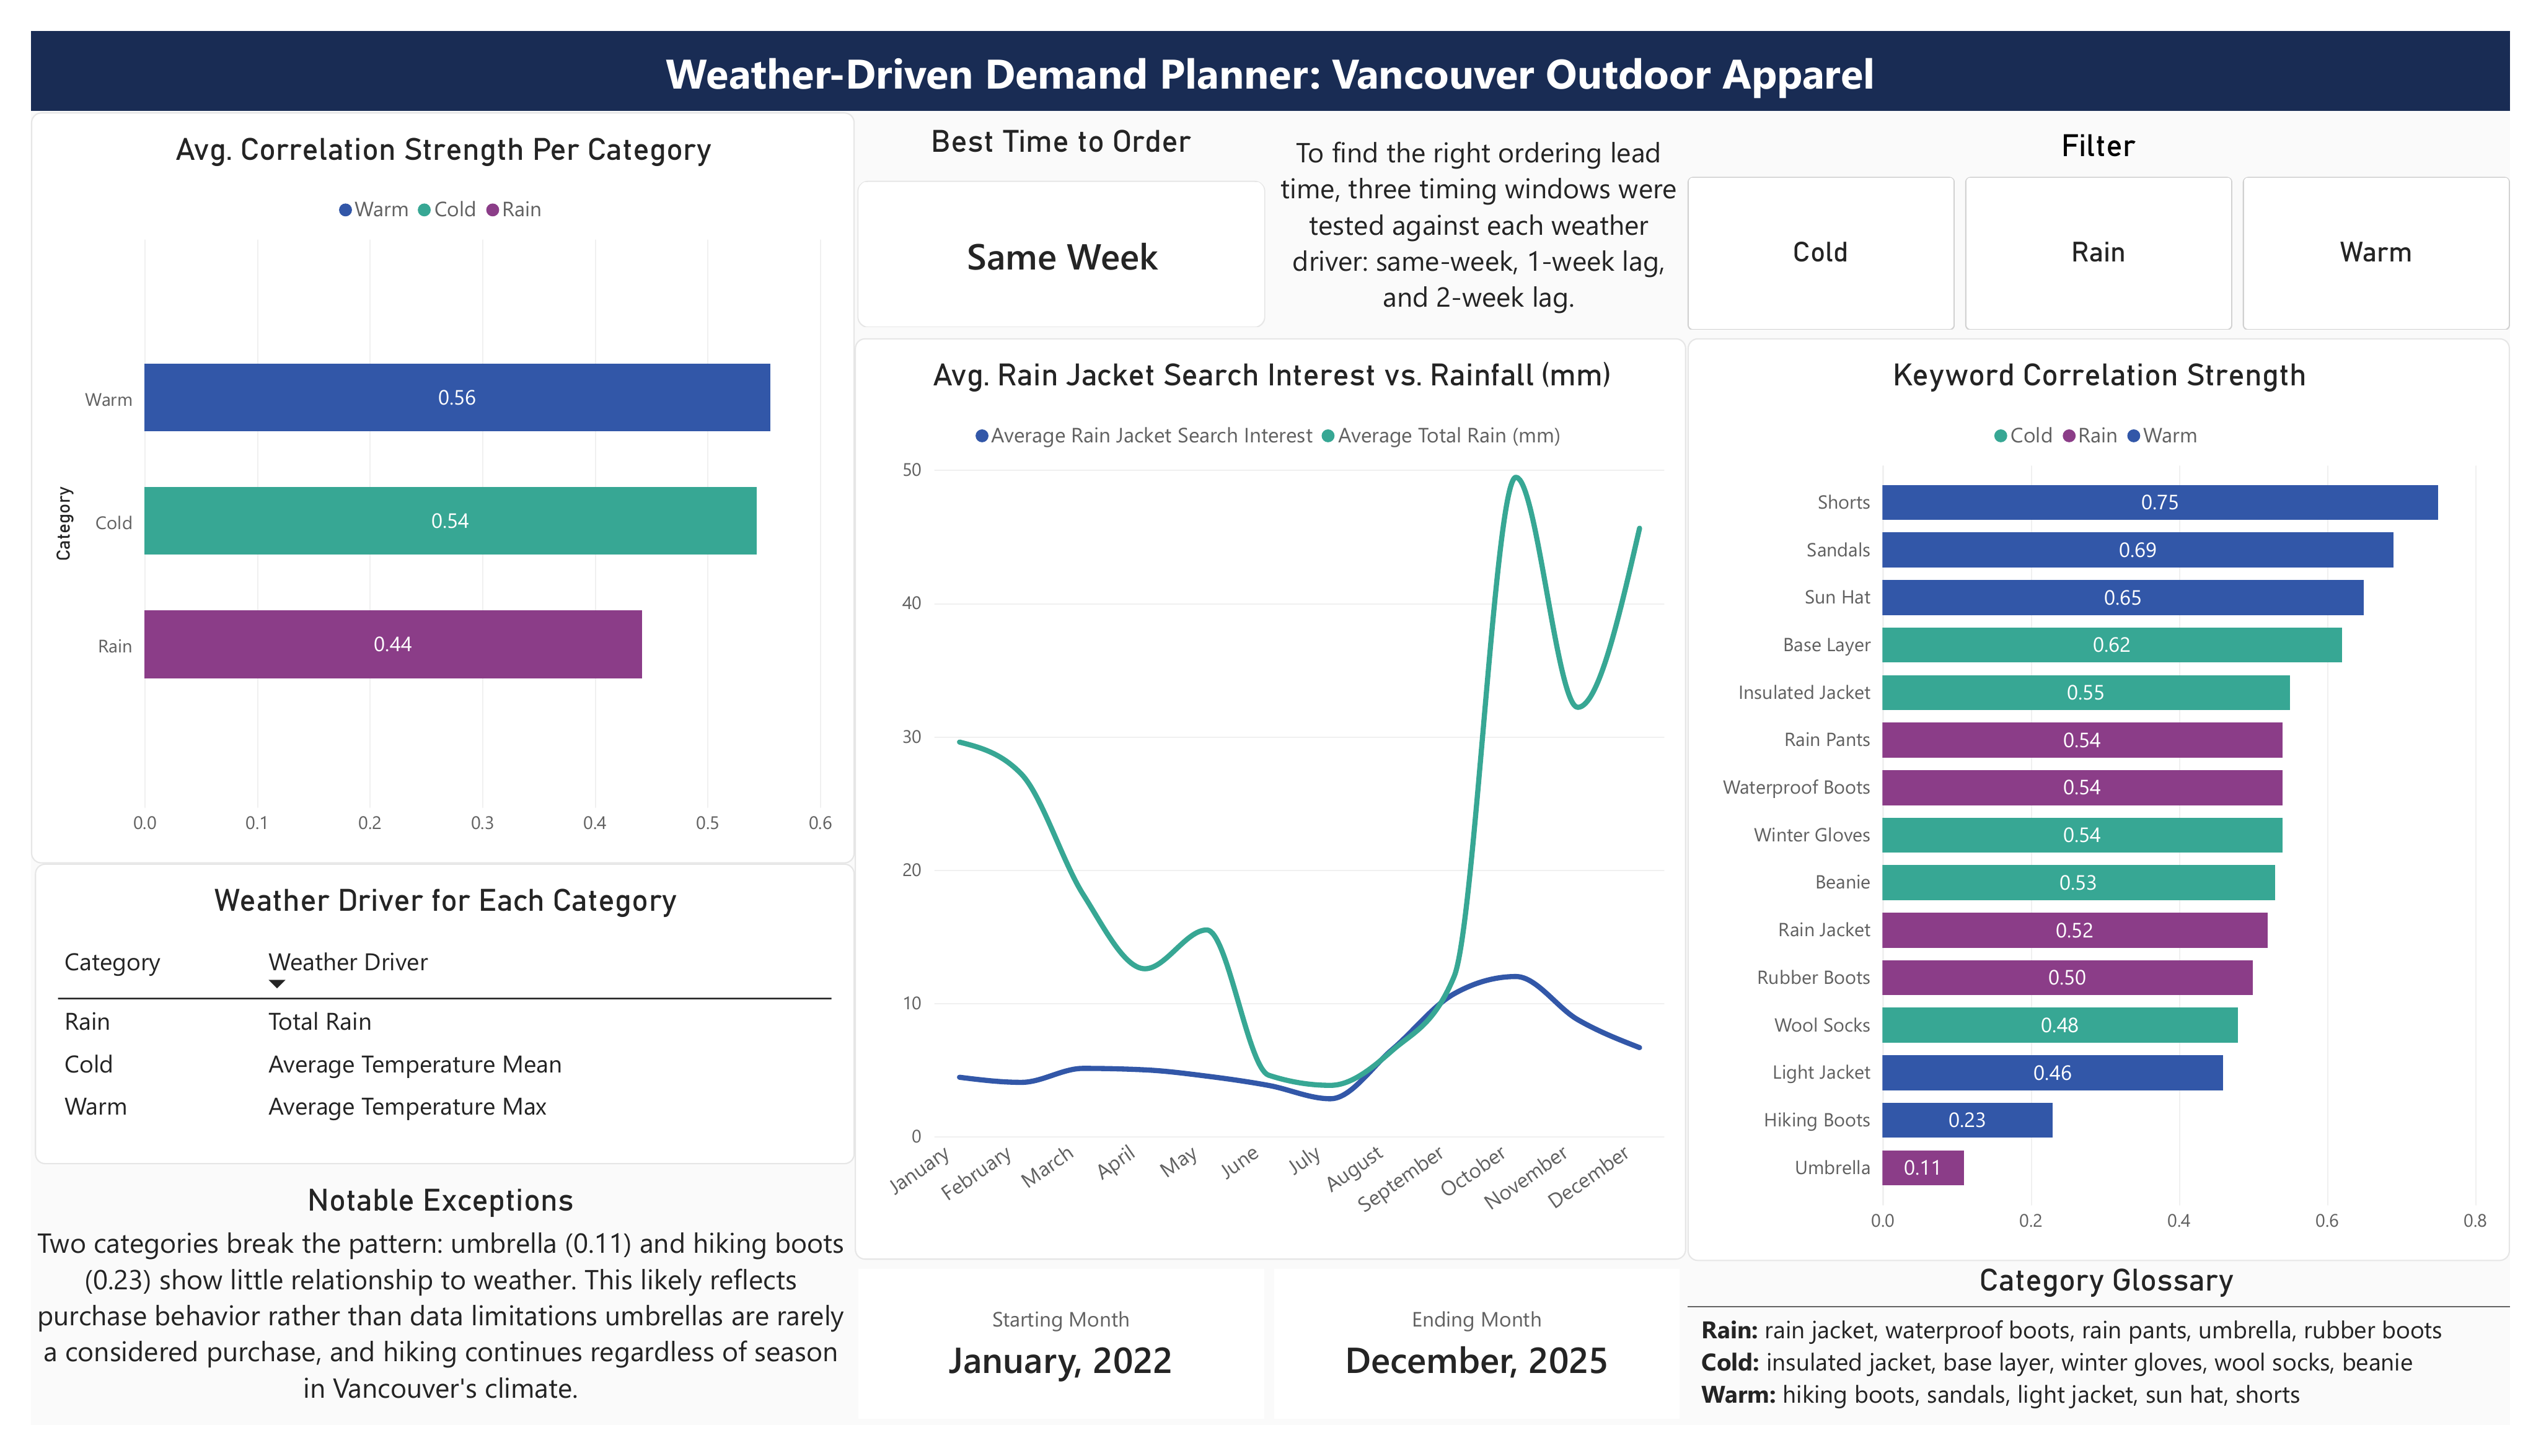

The dashboard page shown, as its layout file describes it:
{"tool":"powerbi","page":{"name":"Page 1","canvas":[1920,1080],"ordinal":0},"visuals":[{"type":"barChart","title":"Avg. Correlation Strength Per Category","fields":{"Y":["Avg(demand_planning_project demand_summary.correlation_strength)"],"Series":["demand_planning_project demand_summary.category"],"Category":["demand_planning_project demand_summary.category"]},"box":[0,62.5,637.5,582.5],"z":0},{"type":"lineChart","title":"Avg. Rain Jacket Search Interest vs. Rainfall (mm)","fields":{"Y":["Avg(demand_planning_project joined_rain.rain_jacket)","Avg(demand_planning_project joined_rain.total_rain)"],"Category":["demand_planning_project joined_rain.week_start.Variation.Date Hierarchy.Month"]},"box":[638,238,644,714],"z":1000},{"type":"advancedSlicerVisual","title":"Filter","fields":{"Values":["demand_planning_project demand_summary.category"]},"box":[1282.5,62.5,637.5,175],"z":2000},{"type":"textbox","box":[0,0,1920,62],"z":3000},{"type":"barChart","title":"Keyword Correlation Strength","fields":{"Category":["demand_planning_project demand_summary.Keyword"],"Series":["demand_planning_project demand_summary.Category"],"Y":["Avg(demand_planning_project demand_summary.Correlation Strength)"]},"box":[1282.5,237.5,637.5,715],"z":4000},{"type":"textbox","title":"Category Glossary","box":[1282.5,952.5,640,127.5],"z":5000},{"type":"cardVisual","title":"Historical Data Timeline","fields":{"Data":["Min(demand_planning_project joined_cold.week_start)","Max(demand_planning_project joined_cold.week_start)"]},"box":[635,952.5,648,128],"z":6000},{"type":"tableEx","title":"Weather Driver for Each Category","fields":{"Values":["demand_planning_project demand_summary.Category","demand_planning_project demand_summary.Weather Driver"]},"box":[2.5,645,635,232.5],"z":7000},{"type":"cardVisual","title":"Best Time to Order","fields":{"Data":["Min(demand_planning_project demand_summary.Best Timing)"]},"box":[636,62,324,180],"z":8000},{"type":"textbox","box":[960,65,322.5,172.5],"z":9000},{"type":"textbox","title":"Notable Exceptions","box":[0,877.5,635,202.5],"z":10000}]}

Visuals, with their boxes on the page's 1920x1080 design canvas (x1, y1, x2, y2). These are canvas units, not pixel positions in the 2541x1456 screenshot, which may show the page scaled, cropped or inside an application window:
"Avg. Correlation Strength Per Category" barChart: [0, 62, 638, 645]
"Avg. Rain Jacket Search Interest vs. Rainfall (mm)" lineChart: [638, 238, 1282, 952]
"Filter" advancedSlicerVisual: [1282, 62, 1920, 238]
textbox: [0, 0, 1920, 62]
"Keyword Correlation Strength" barChart: [1282, 238, 1920, 952]
"Category Glossary" textbox: [1282, 952, 1922, 1080]
"Historical Data Timeline" cardVisual: [635, 952, 1283, 1080]
"Weather Driver for Each Category" tableEx: [2, 645, 638, 878]
"Best Time to Order" cardVisual: [636, 62, 960, 242]
textbox: [960, 65, 1282, 238]
"Notable Exceptions" textbox: [0, 878, 635, 1080]
